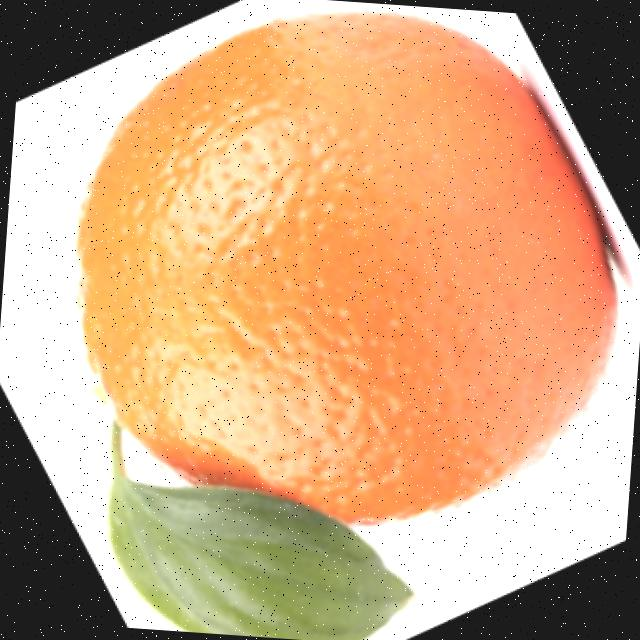orange: (49, 0, 636, 545)
